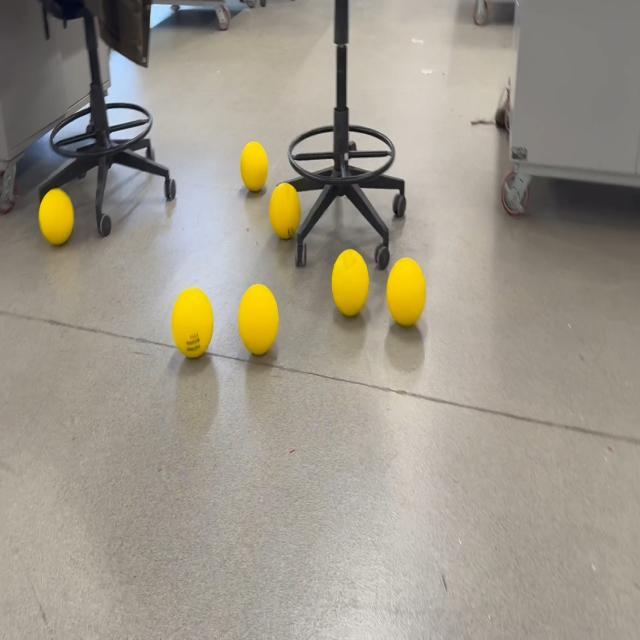Fuel: (171, 287, 214, 358), (239, 284, 279, 356), (387, 256, 426, 326), (332, 248, 369, 317), (39, 188, 74, 246), (269, 182, 301, 240), (240, 142, 269, 192)
